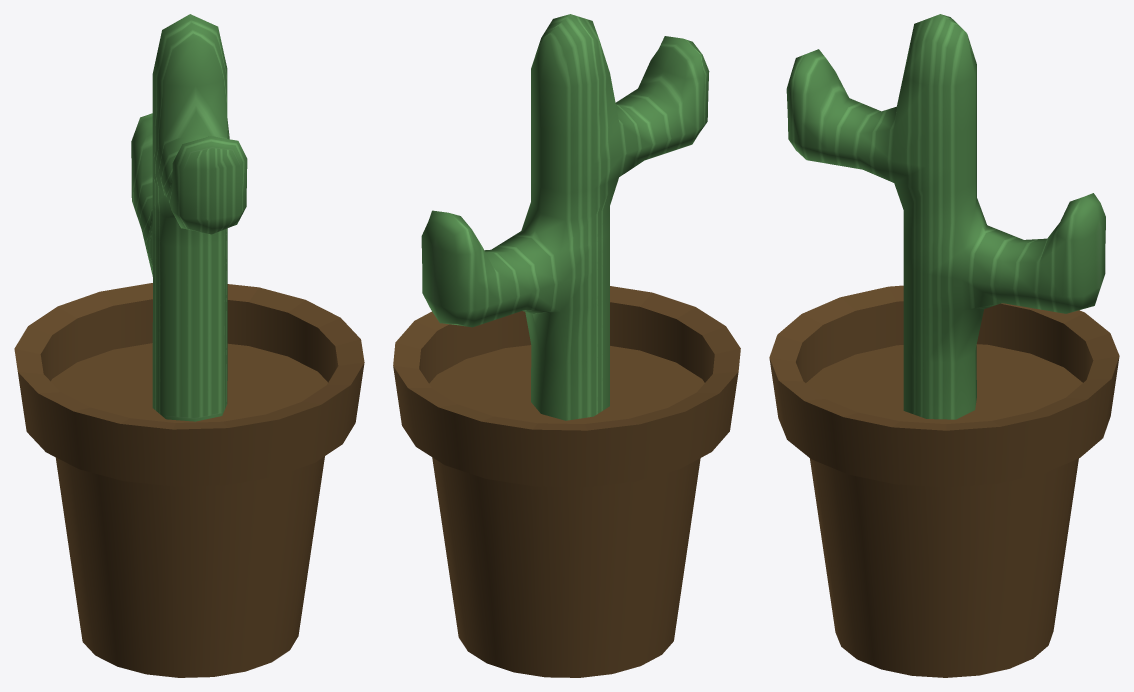
Rendered from Cactus.fbx.
The picture shows the model from 3 angles, left to right: view 1: azimuth 30°, elevation 25°; view 2: azimuth 150°, elevation 25°; view 3: azimuth 270°, elevation 25°; orthographic projection.
Parts seen in each view (by area): view 1: geoPlantPot1, geoCactus1; view 2: geoPlantPot1, geoCactus1; view 3: geoPlantPot1, geoCactus1.
Part boxes in pixels (<box>): geoPlantPot1: <box>14,283,364,677</box>; geoCactus1: <box>131,14,247,421</box>; geoPlantPot1: <box>393,286,740,677</box>; geoCactus1: <box>421,14,709,420</box>; geoPlantPot1: <box>769,285,1119,677</box>; geoCactus1: <box>786,14,1105,419</box>.
Size of the model in its own units: 25.36 by 49.31 by 25.36.
